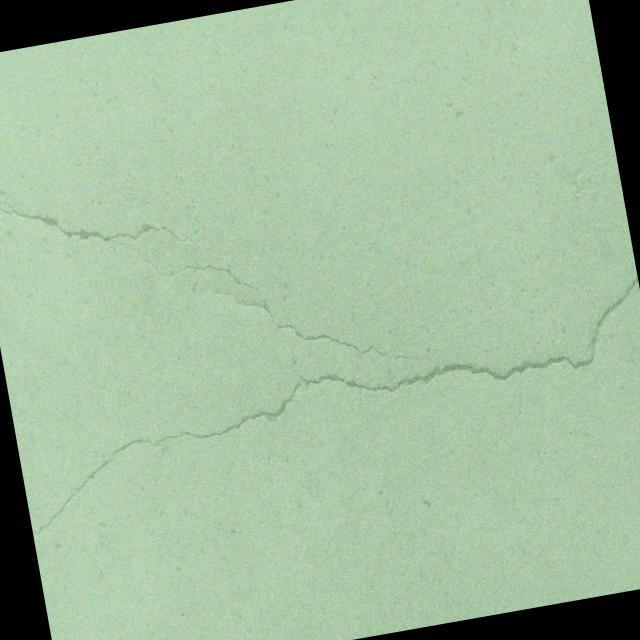crack: (6, 274, 640, 535), (0, 108, 433, 433)
